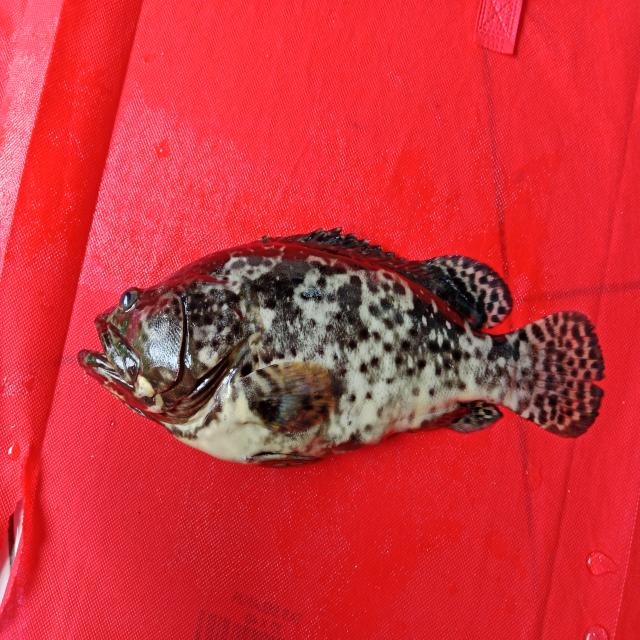ikan: (71, 223, 611, 478)
